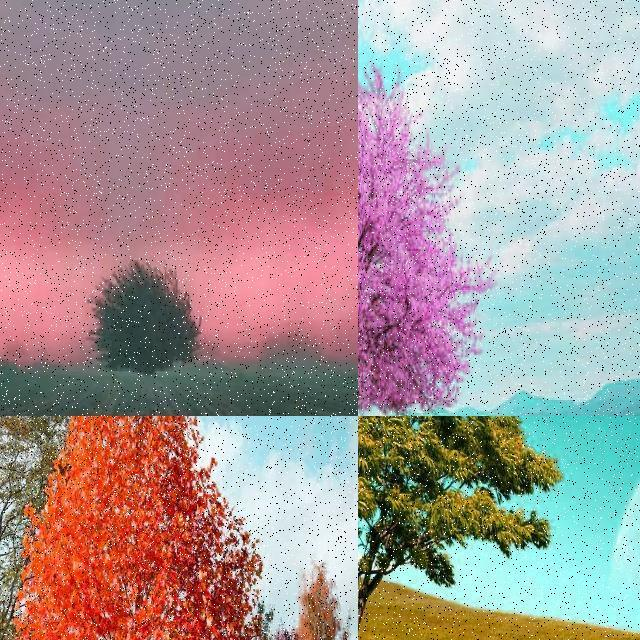tree: (358, 59, 534, 417), (8, 416, 276, 640), (358, 416, 566, 640), (0, 416, 78, 640), (93, 258, 203, 370), (0, 470, 34, 640), (295, 550, 351, 640), (0, 516, 32, 640)
